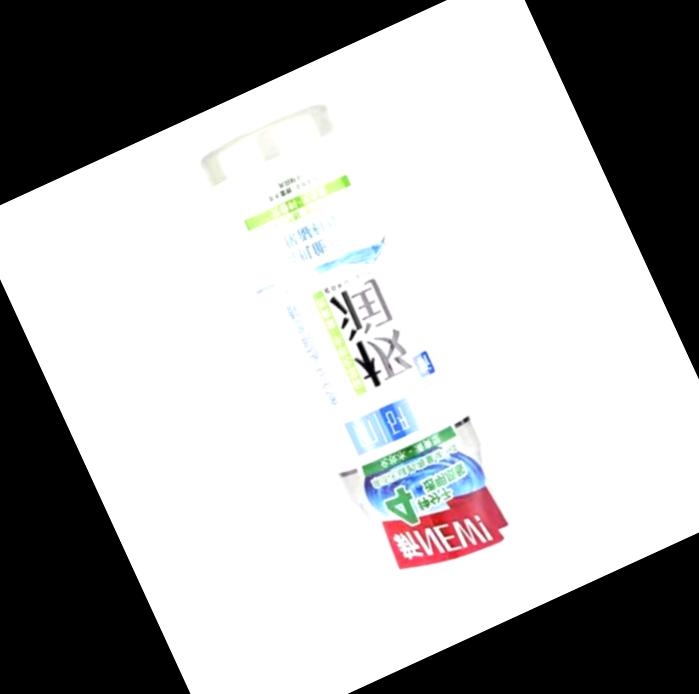cosmetic: (196, 107, 529, 614)
